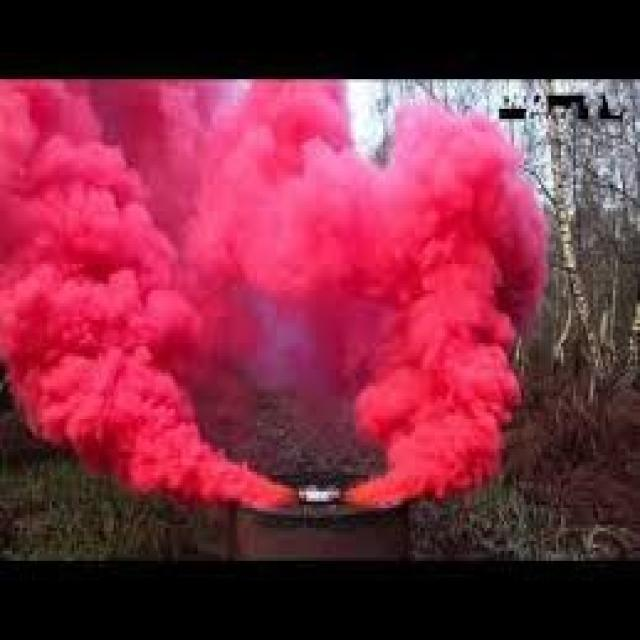Smoke: (0, 80, 550, 514)
